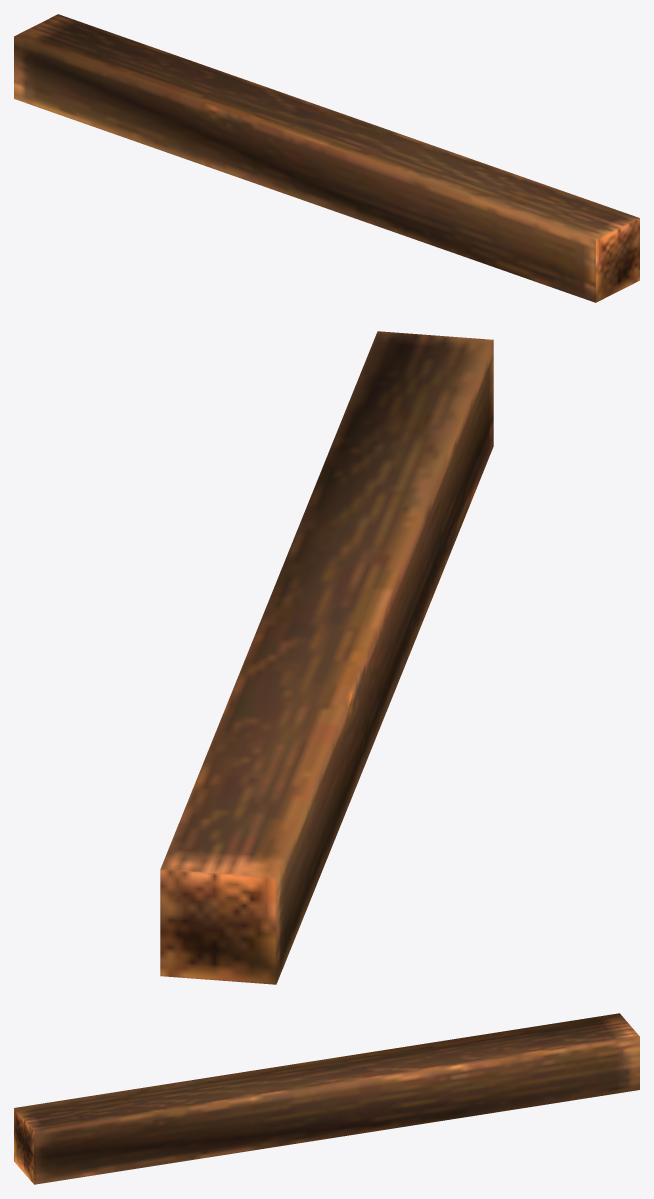
The model's file is SWORDLIGHT20_JAILBRACE43.fbx.
3 renders of one model, top to bottom at view 1: azimuth 30°, elevation 25°; view 2: azimuth 150°, elevation 25°; view 3: azimuth 270°, elevation 25°, orthographic. The views are drawn at different scales.
Parts seen in each view (by area): view 1: SWORDLIGHT20_JAILBRACE43; view 2: SWORDLIGHT20_JAILBRACE43; view 3: SWORDLIGHT20_JAILBRACE43.
Boxes of the visible parts, x1=… form: SWORDLIGHT20_JAILBRACE43: x1=14, y1=14, x2=639, y2=302; SWORDLIGHT20_JAILBRACE43: x1=160, y1=331, x2=493, y2=984; SWORDLIGHT20_JAILBRACE43: x1=14, y1=1013, x2=639, y2=1184.
Size of the model in its own units: 18990 by 4000 by 42513.
1 material, 1 textured.
